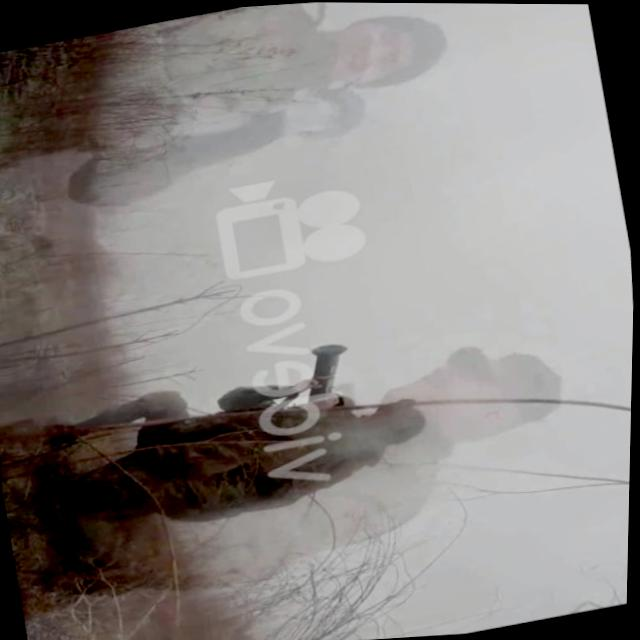rocket: (304, 340, 352, 397)
